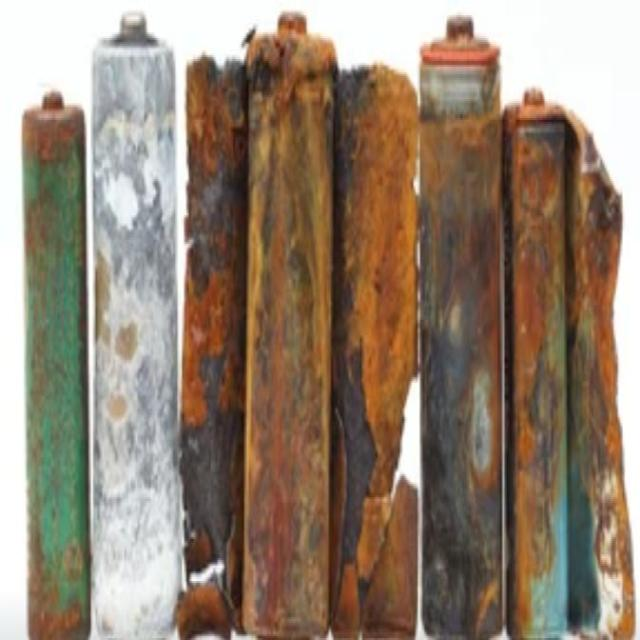electronic: (77, 0, 192, 640)
